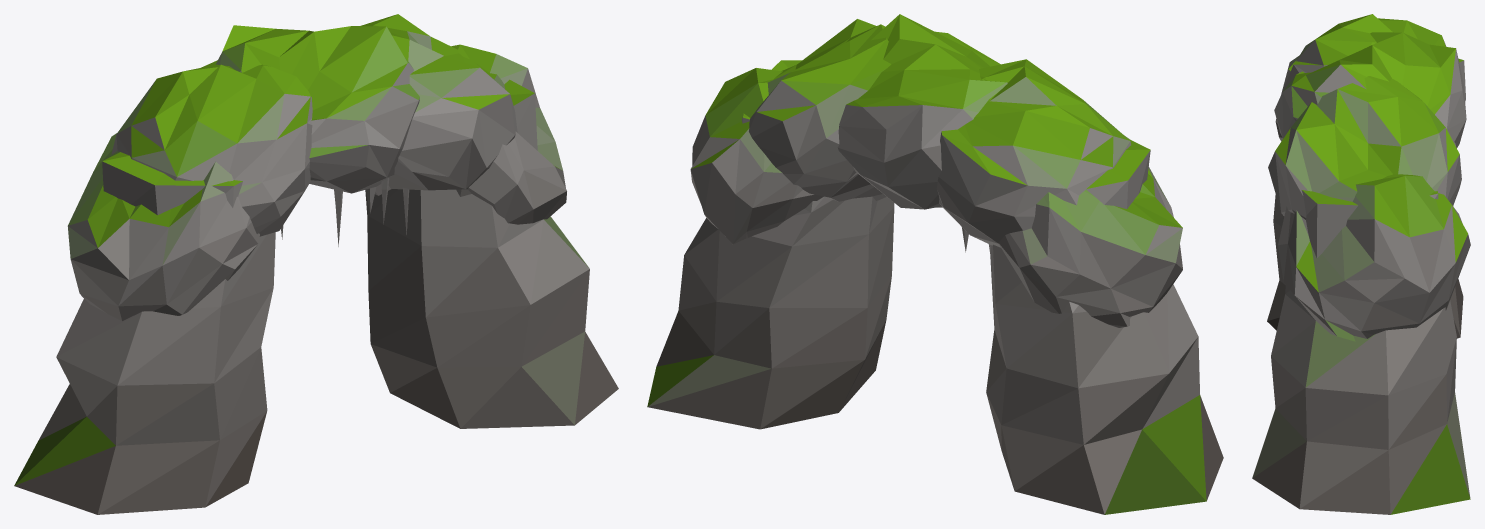
The model's file is batu_arch_limestone_446781.glb.
3 renders of one model, left to right at view 1: azimuth 30°, elevation 25°; view 2: azimuth 150°, elevation 25°; view 3: azimuth 270°, elevation 25°, orthographic. The views are drawn at different scales.
Visible parts, largest first — view 1: Lengkungan_Gua_Batu; view 2: Lengkungan_Gua_Batu; view 3: Lengkungan_Gua_Batu.
Part boxes in pixels (<box>): Lengkungan_Gua_Batu: <box>14,14,618,514</box>; Lengkungan_Gua_Batu: <box>647,14,1223,514</box>; Lengkungan_Gua_Batu: <box>1252,14,1470,514</box>.
Size of the model in its own units: 10.81 by 7.23 by 4.06.
